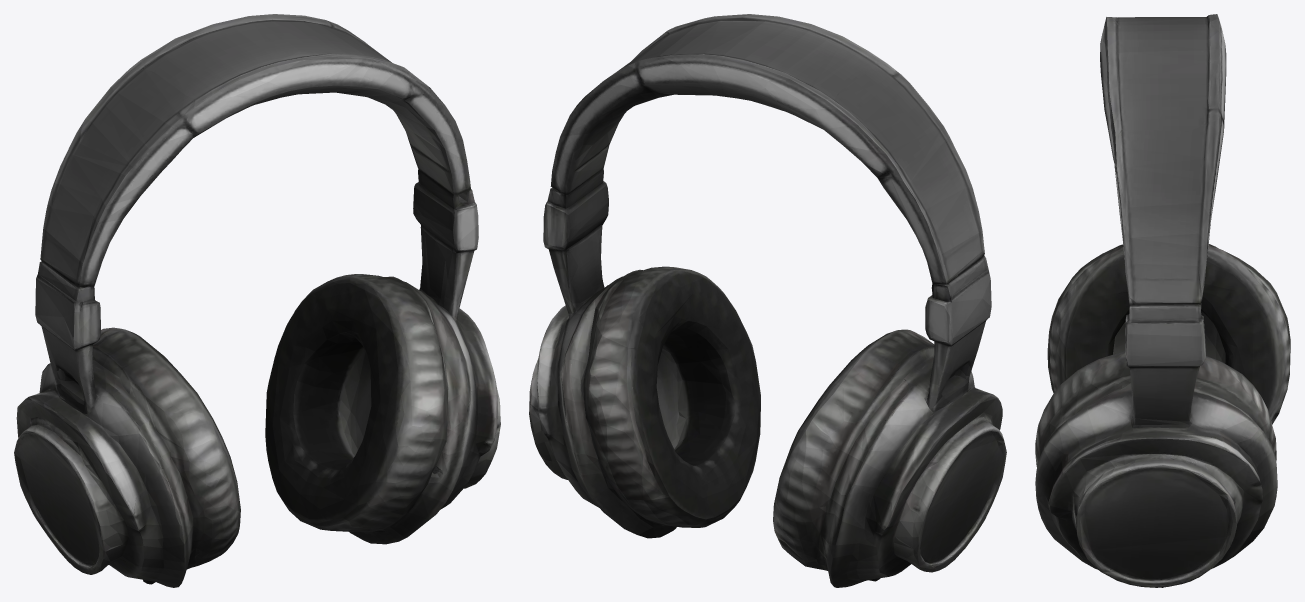
File: headphones.glb
3 renders of one model, left to right at view 1: azimuth 30°, elevation 25°; view 2: azimuth 150°, elevation 25°; view 3: azimuth 270°, elevation 25°, orthographic. The views are drawn at different scales.
Visible parts, largest first — view 1: world; view 2: world; view 3: world.
Boxes of the visible parts, bbox=[...] form: world: bbox=[14, 14, 500, 587]; world: bbox=[529, 14, 1006, 587]; world: bbox=[1035, 14, 1290, 587].
Size of the model in its own units: 0.8453 by 0.9957 by 0.4635.
1 material, 1 textured.
